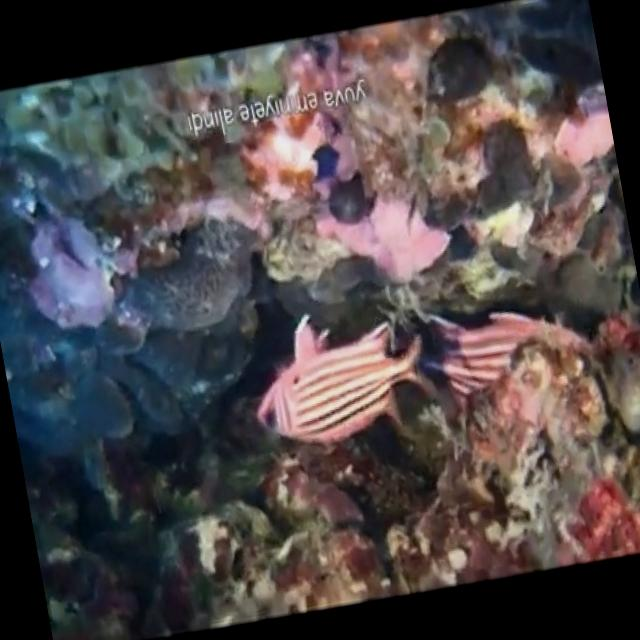Asker Baligi: (238, 292, 441, 459)
